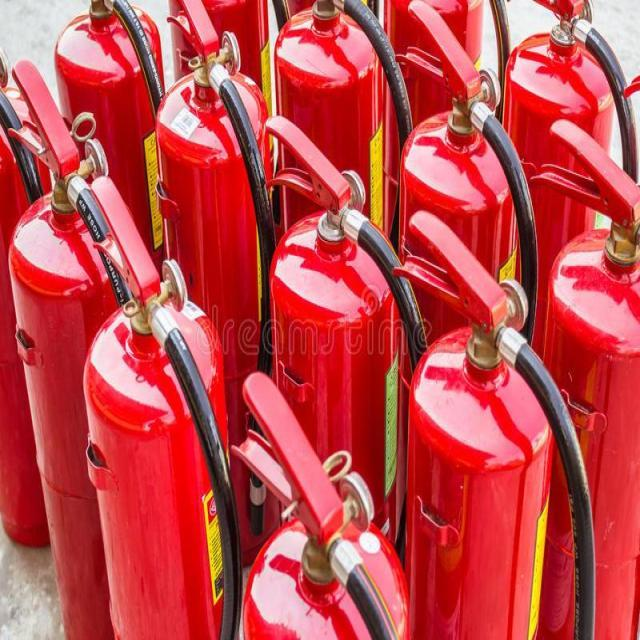fire_extinguisher: (254, 111, 448, 638), (397, 0, 548, 639), (0, 57, 165, 639), (388, 196, 602, 639), (498, 0, 640, 639), (77, 168, 251, 639), (154, 1, 282, 584), (272, 0, 427, 478), (46, 0, 182, 511), (526, 109, 640, 639), (224, 366, 417, 638), (0, 39, 87, 554)
